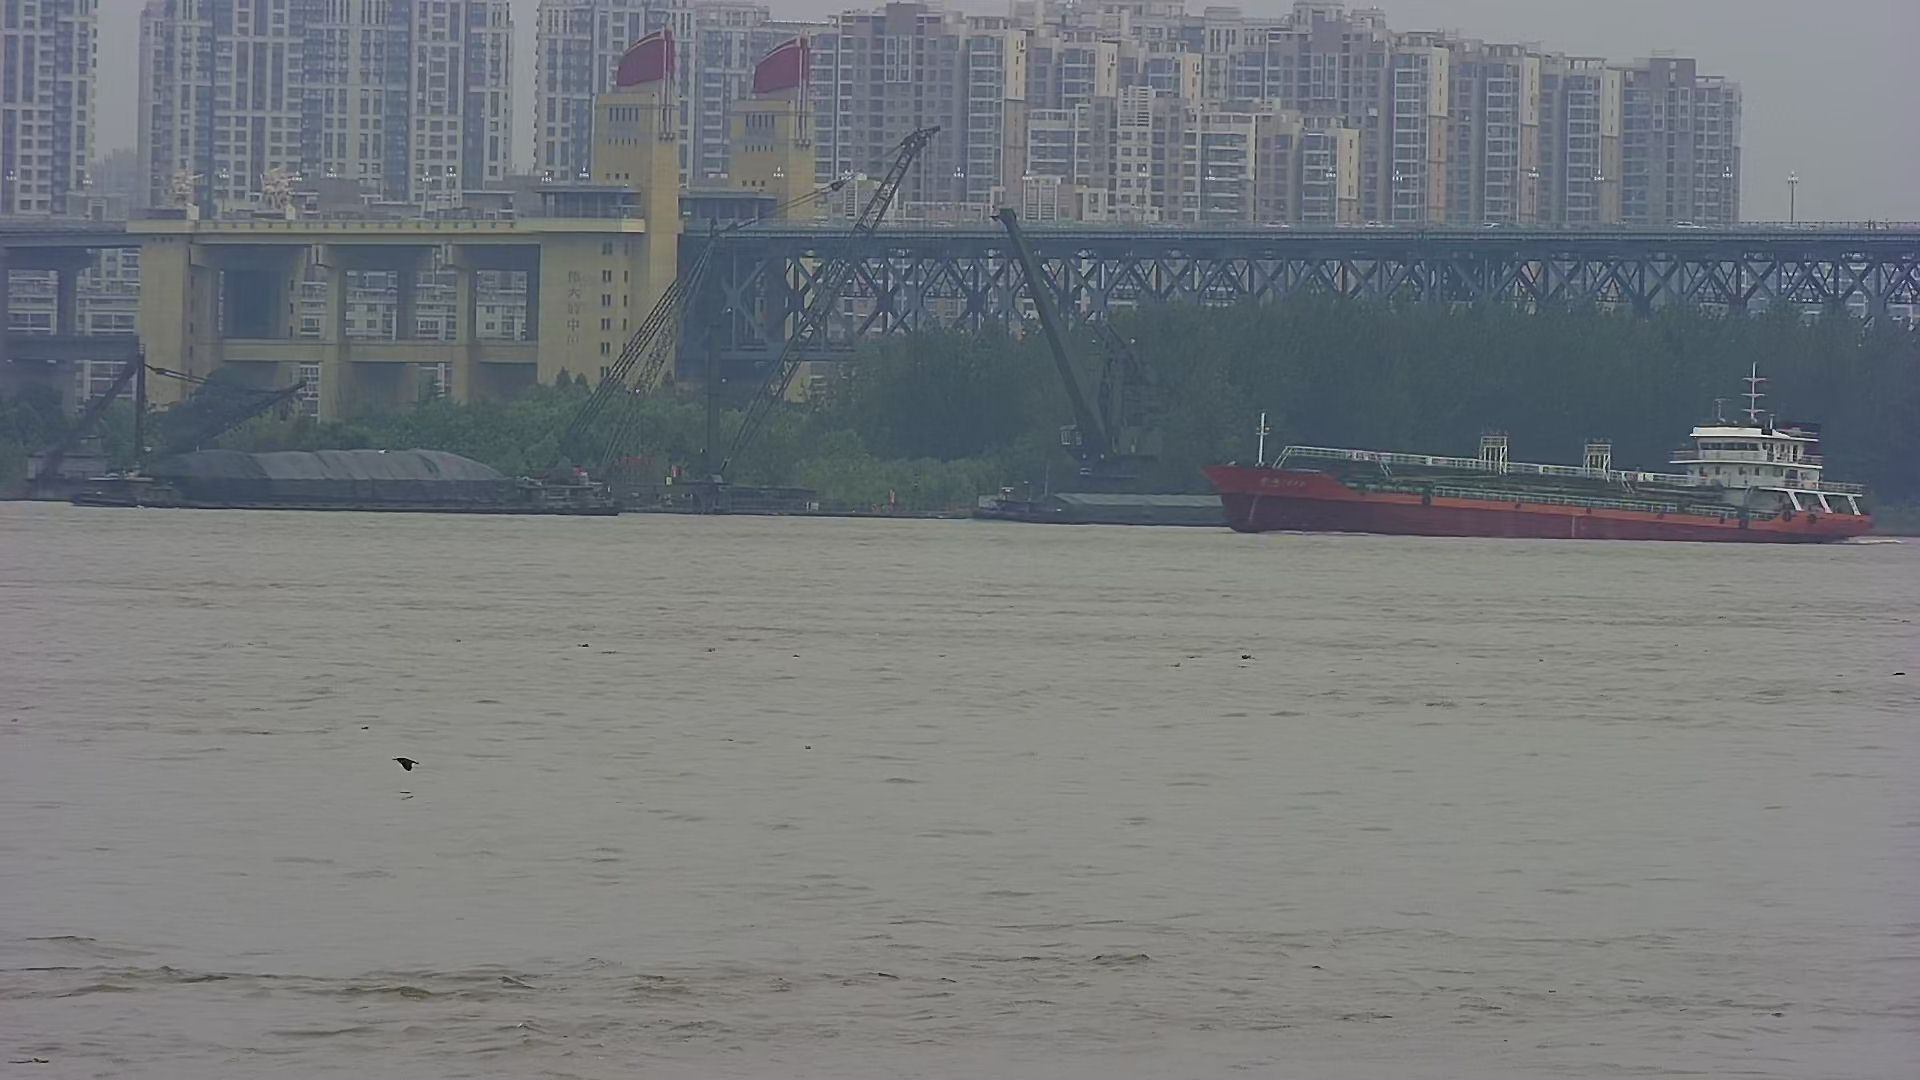ship: (1189, 407, 1873, 549), (135, 443, 628, 525)
